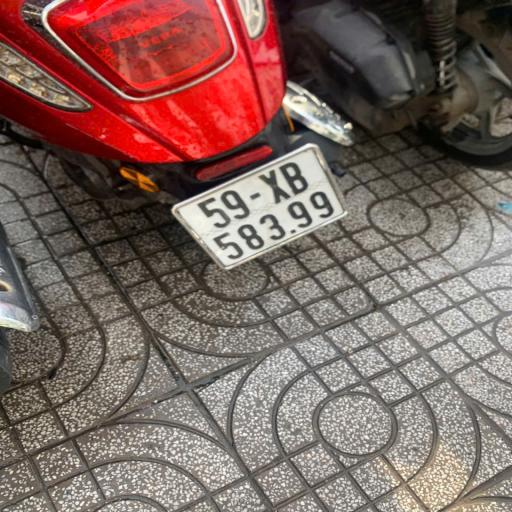2: (257, 215, 290, 243)
5: (213, 230, 254, 265), (198, 190, 232, 226)
8: (235, 220, 272, 252)
9: (219, 185, 254, 220), (310, 186, 342, 222), (285, 197, 314, 234)
B: (279, 160, 318, 198)
X: (254, 166, 296, 206)
